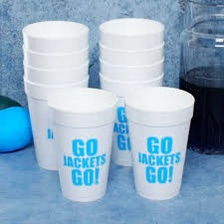paper_cup: (16, 17, 92, 175), (95, 14, 170, 170), (120, 82, 198, 204), (43, 84, 121, 205)
